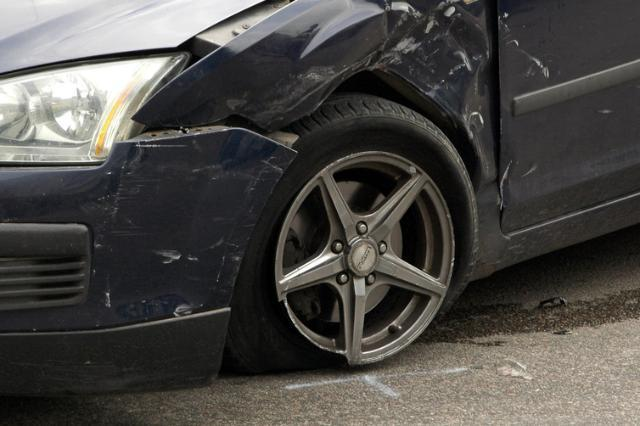Bumper: (83, 124, 296, 327)
Door: (498, 1, 584, 228)
Fender: (133, 0, 503, 182)
